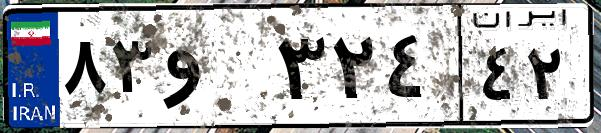2: (330, 28, 385, 110), (525, 38, 570, 115)
3: (270, 28, 330, 110), (110, 28, 158, 98)
4: (385, 28, 445, 110), (475, 38, 525, 113)
8: (57, 26, 110, 100)
و: (158, 20, 270, 120)
